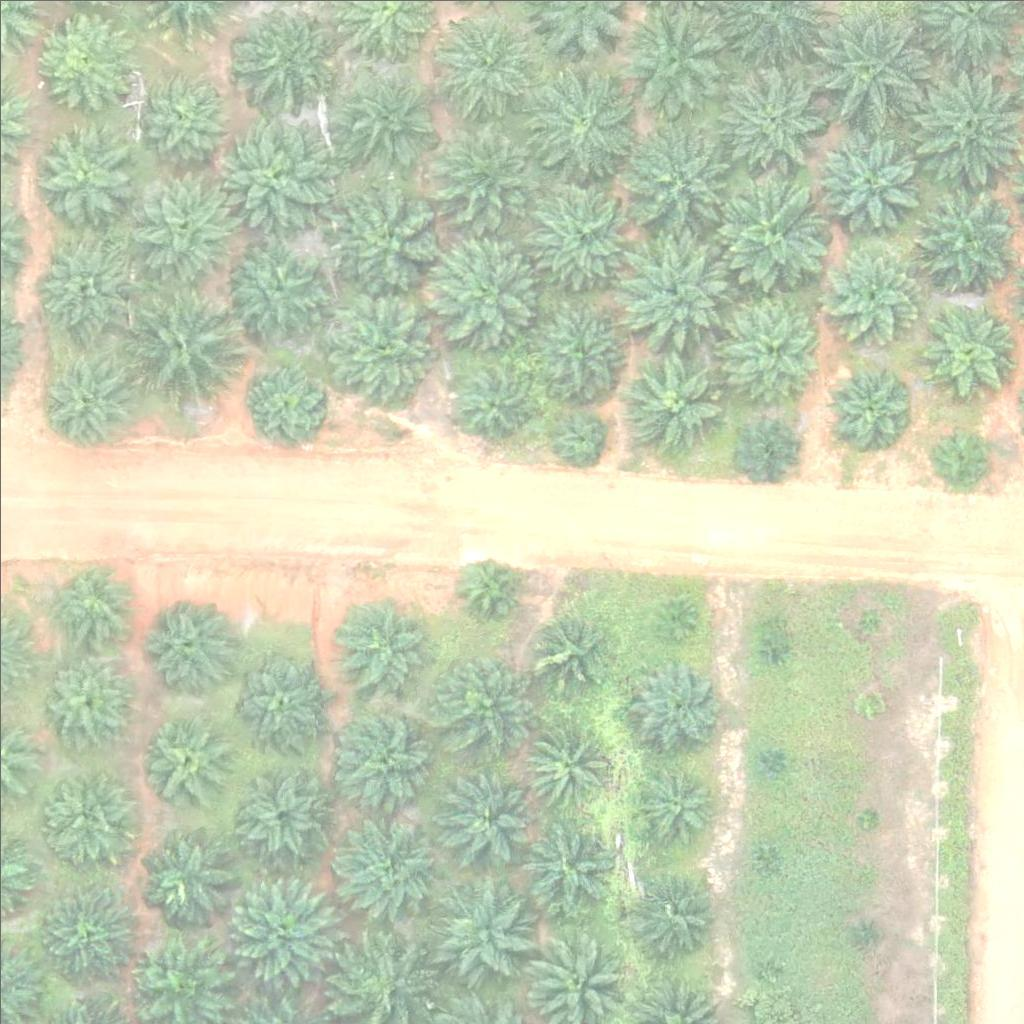Kelapa_Sawit: (704, 169, 829, 295), (621, 120, 746, 246), (516, 58, 641, 184), (316, 285, 441, 411), (328, 174, 453, 300), (208, 110, 333, 236), (117, 284, 242, 410), (121, 161, 246, 287), (520, 167, 645, 292), (226, 865, 339, 979), (908, 181, 1021, 295), (619, 233, 732, 346), (618, 1, 731, 114), (620, 648, 732, 761), (809, 121, 921, 234), (718, 64, 830, 177), (431, 230, 543, 343), (430, 118, 542, 231), (34, 884, 134, 985), (435, 879, 535, 980), (518, 818, 618, 919), (431, 651, 531, 752), (337, 706, 437, 807), (332, 596, 432, 697), (825, 240, 925, 341), (721, 299, 821, 400), (621, 351, 721, 452), (532, 297, 632, 398), (333, 63, 433, 164), (225, 7, 325, 108), (137, 829, 237, 929), (337, 815, 437, 915), (226, 648, 326, 748), (134, 597, 234, 697), (32, 651, 132, 751), (227, 239, 327, 339), (37, 347, 137, 447), (33, 231, 133, 331), (33, 124, 133, 224), (31, 7, 131, 107), (626, 761, 714, 850), (241, 768, 329, 856), (629, 870, 717, 958), (520, 718, 608, 806), (922, 308, 1010, 396), (823, 359, 911, 447), (442, 20, 530, 108), (42, 767, 129, 855), (441, 766, 528, 854), (139, 717, 226, 805), (45, 560, 132, 648), (138, 69, 225, 157), (245, 366, 320, 442), (526, 613, 601, 688), (454, 364, 529, 439), (459, 552, 522, 615), (736, 414, 799, 477), (927, 421, 989, 484), (554, 410, 604, 460), (654, 601, 692, 639), (751, 954, 776, 979), (757, 838, 782, 863), (851, 921, 876, 946), (855, 803, 880, 828), (859, 691, 884, 716), (856, 607, 881, 632), (756, 749, 781, 774), (763, 639, 788, 664)
